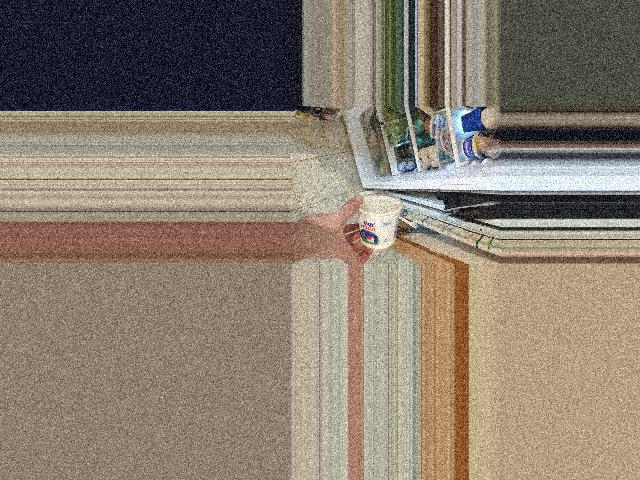cotage: (354, 192, 401, 254)
